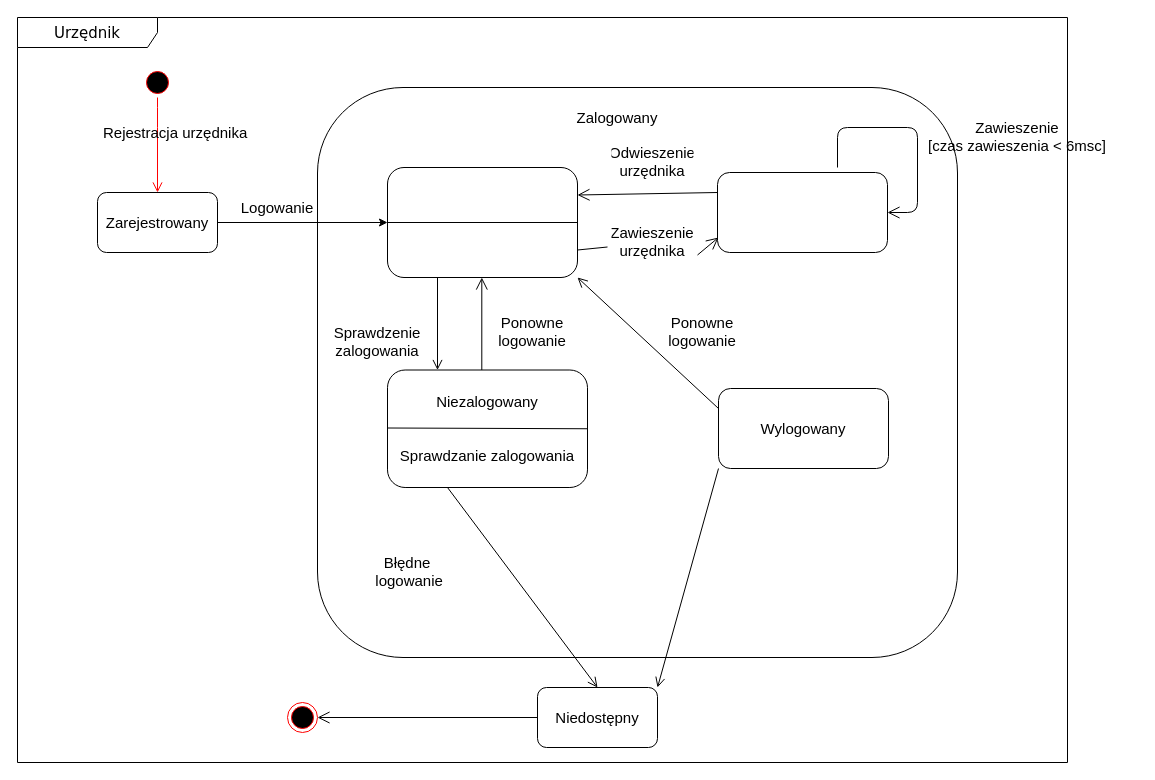
Image size: 1155x780. Some labels were removed from this diagram. Here are the shapes that lost their labels. From the top down, the centre of each, then its label:
pixel 482 222: Dostępny Sprawdzanie stanu
pixel 802 212: Zawieszony w czynnościach
